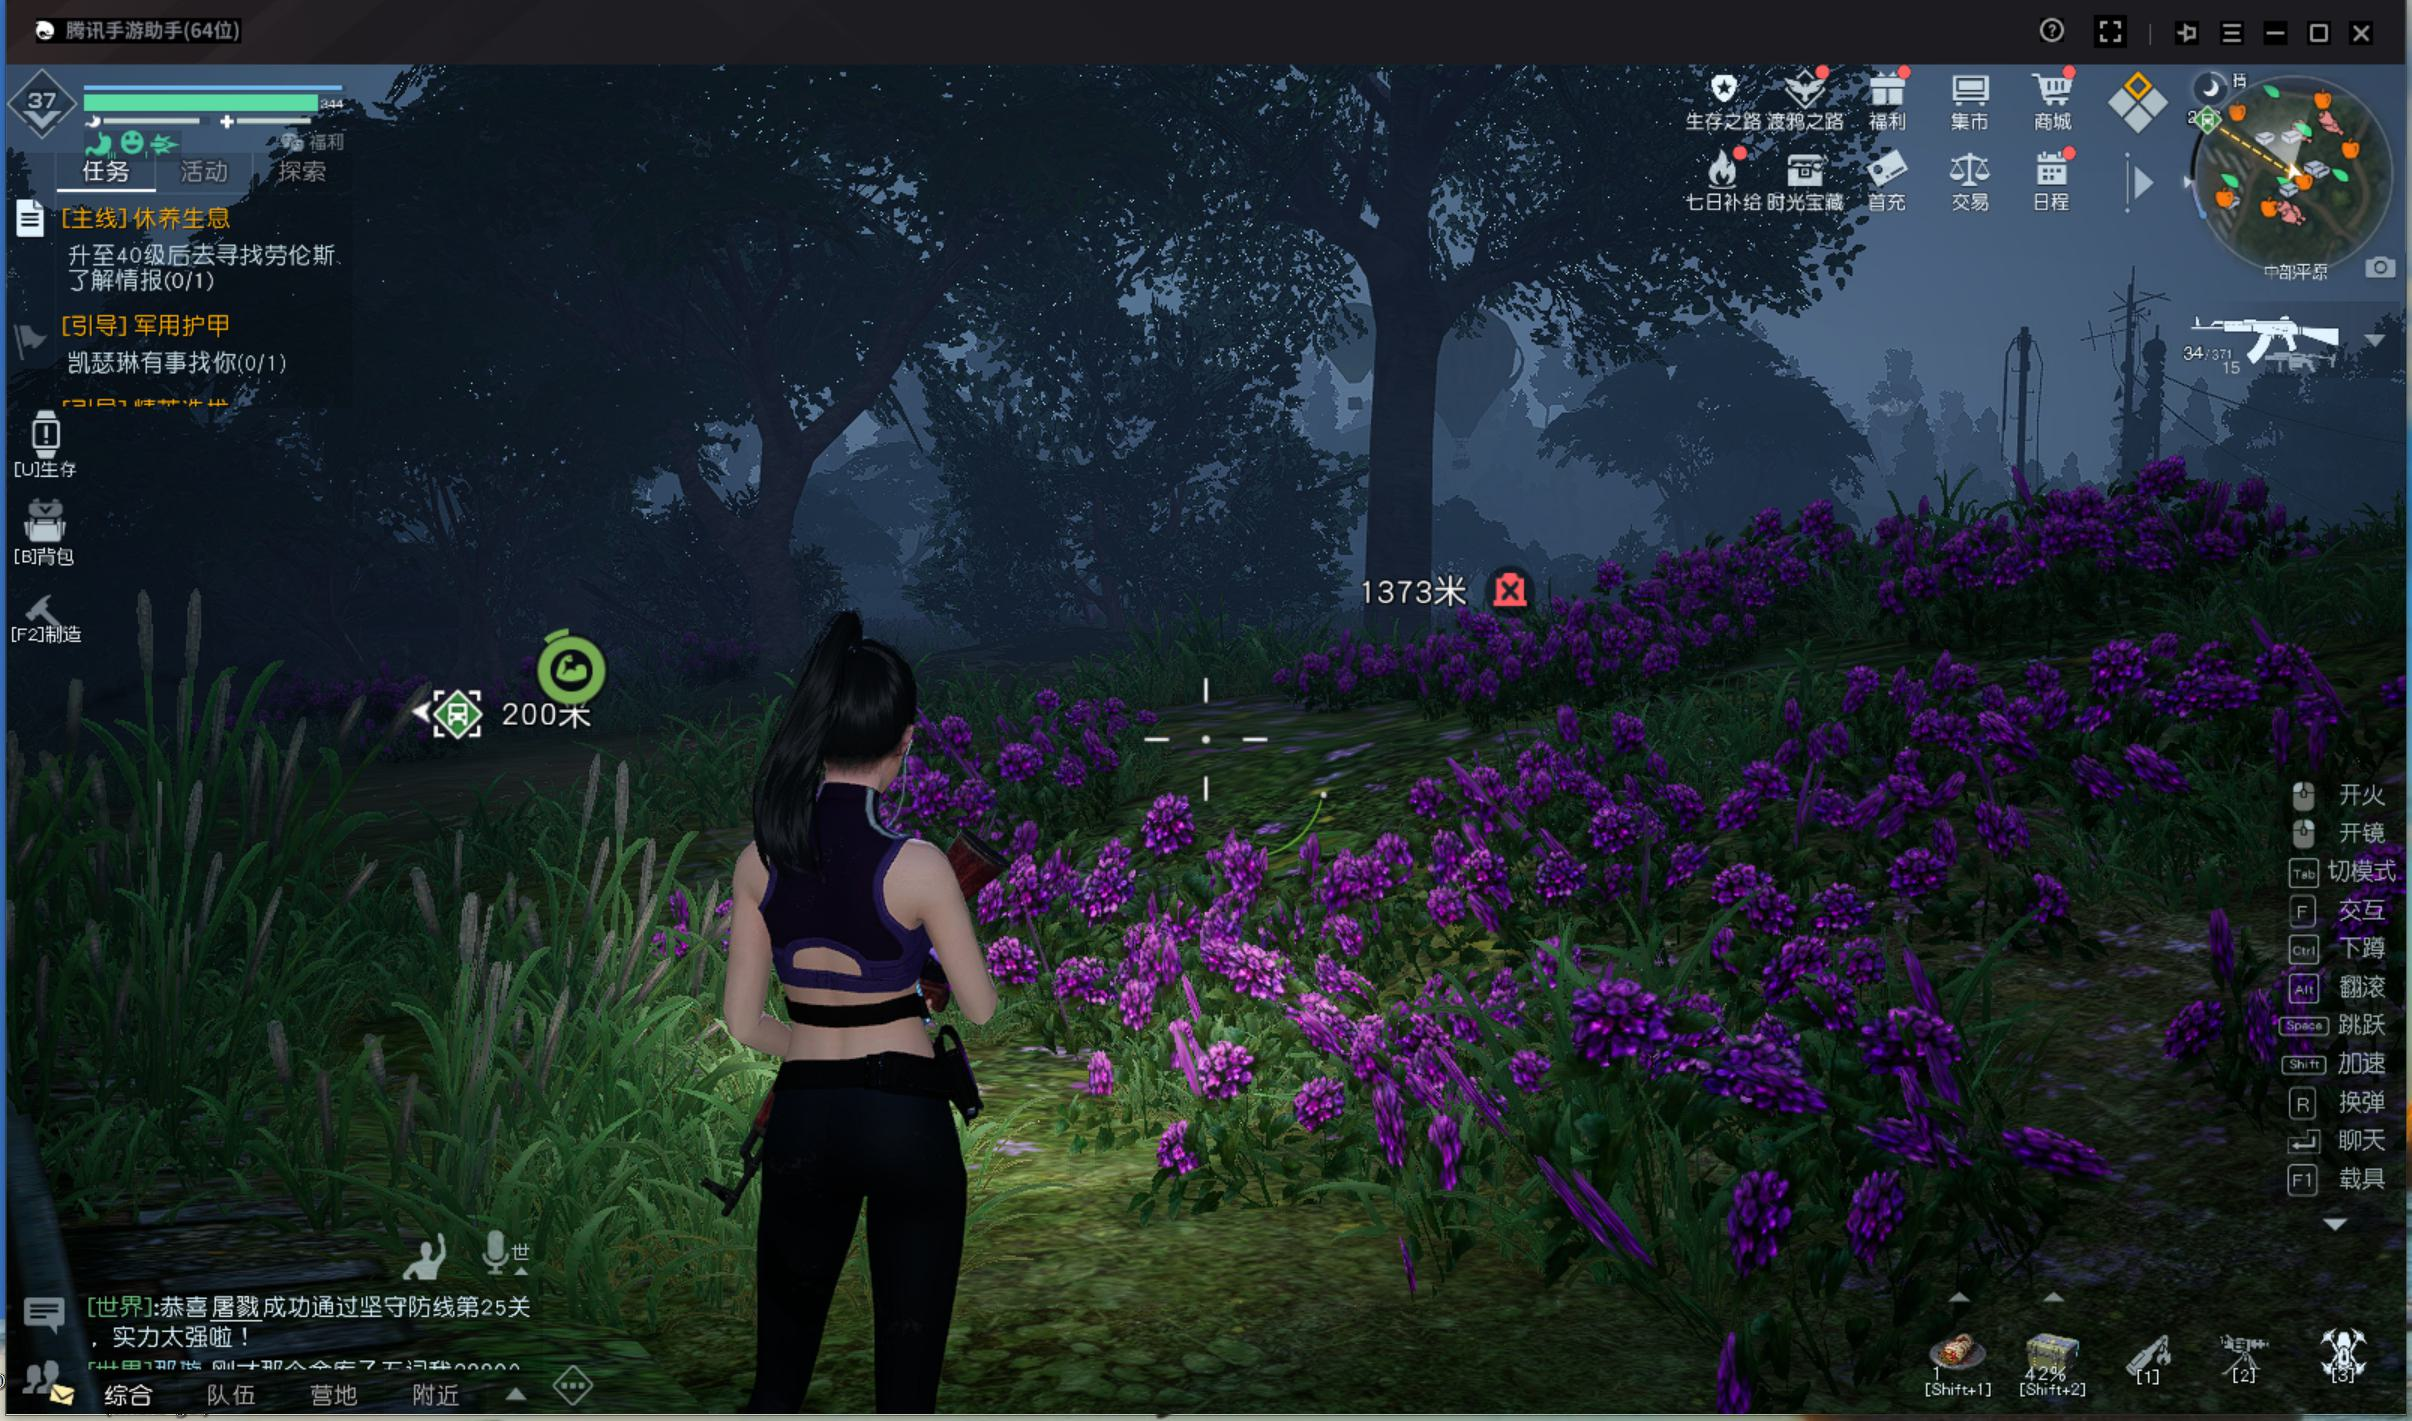tree: (1348, 364, 1446, 668)
